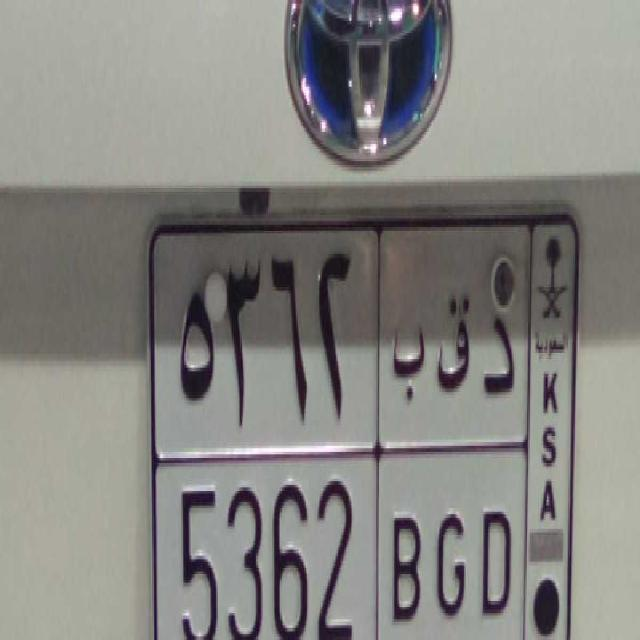license_plate: (168, 454, 524, 640)
